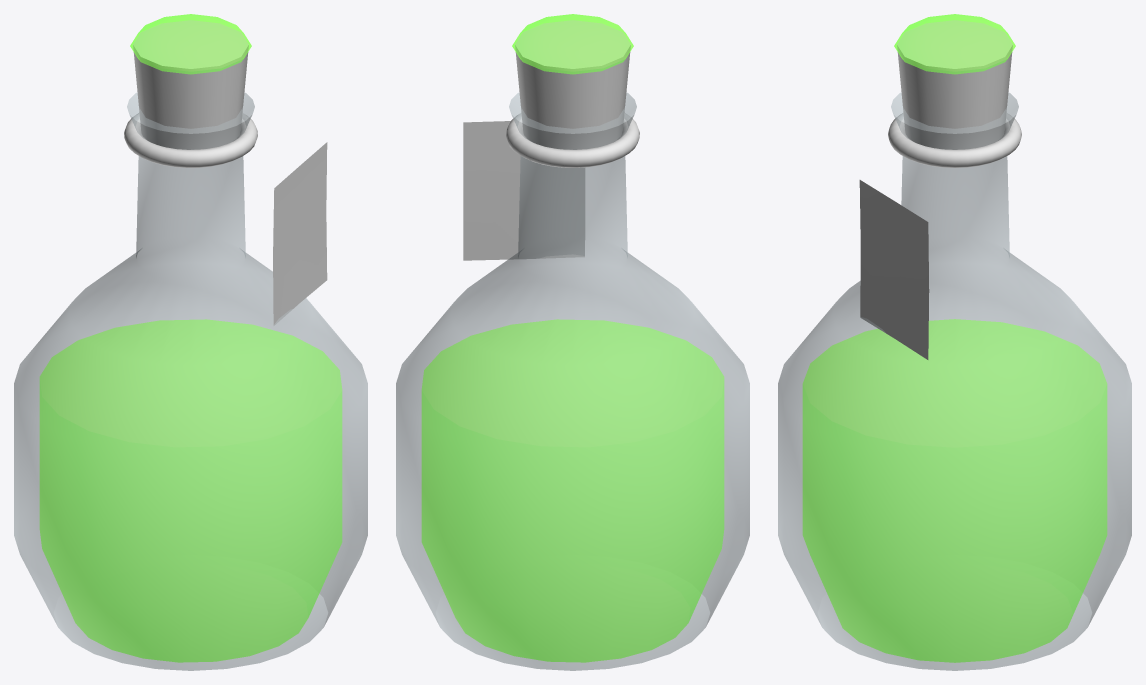
File: stamina_potion.glb
3 views of the same model, side by side, from view 1: azimuth 30°, elevation 25°; view 2: azimuth 150°, elevation 25°; view 3: azimuth 270°, elevation 25° (orthographic).
Parts seen in each view (by area): view 1: stamina_potion; view 2: stamina_potion; view 3: stamina_potion.
Part boxes in pixels (box(x1,y1,x2,y2)): stamina_potion: box(14, 14, 367, 670); stamina_potion: box(396, 14, 749, 670); stamina_potion: box(778, 14, 1131, 670).
Bounding box in the file's own units: 0.116 × 0.214 × 0.116.
